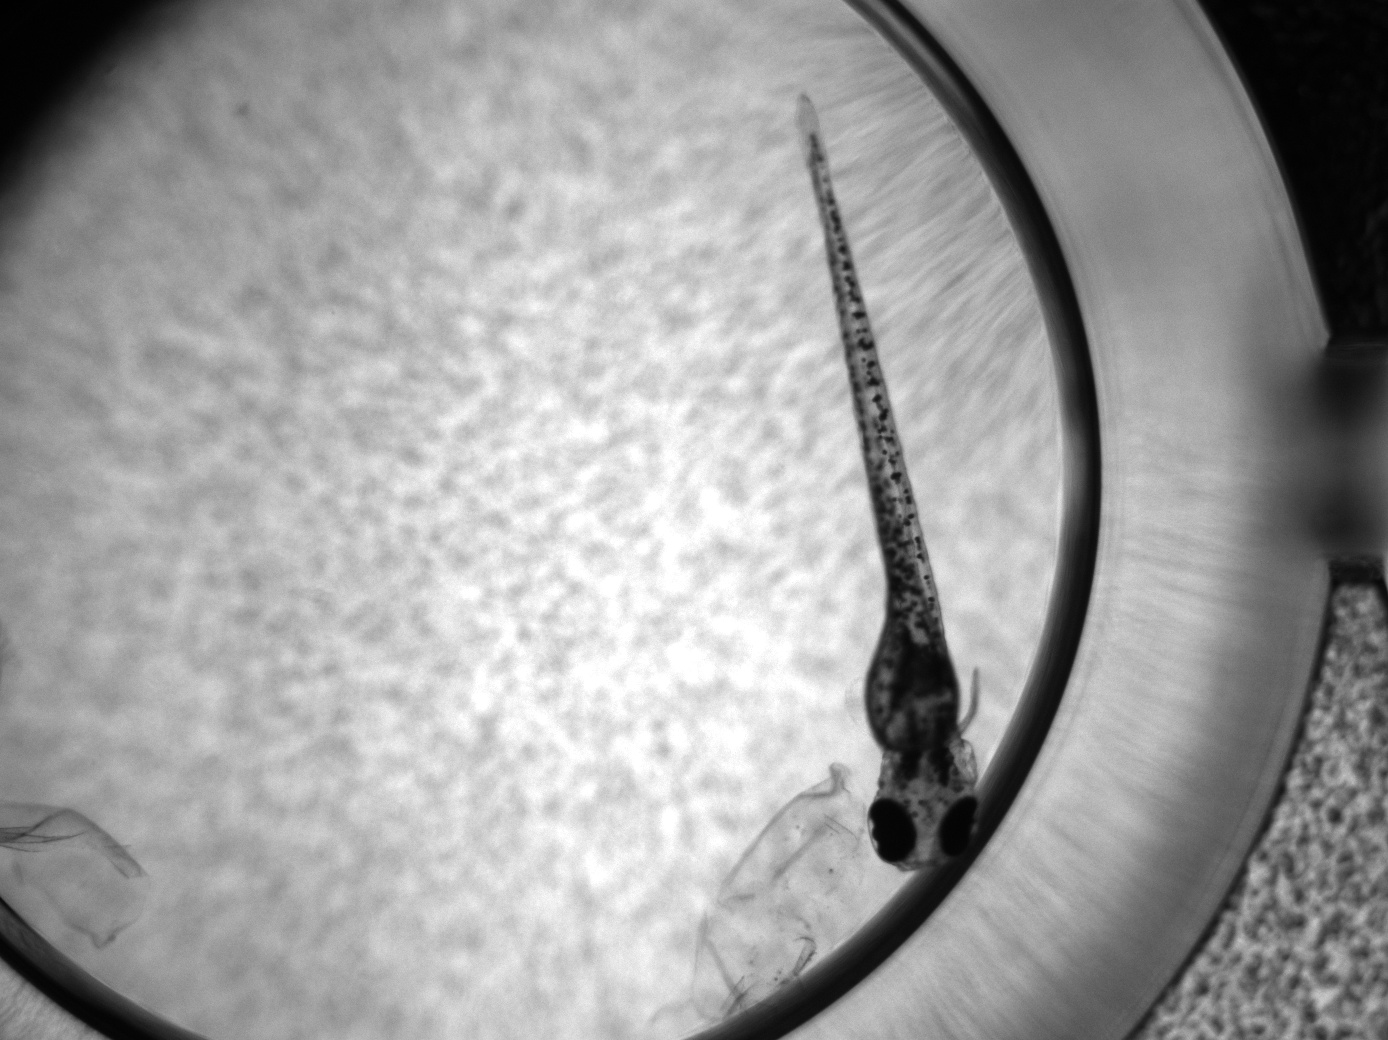debris: (692, 761, 868, 1023), (1, 792, 152, 953)
embryo: (797, 94, 982, 876)
eye: (867, 797, 916, 864), (935, 796, 978, 856)
yolksac: (864, 642, 961, 751)
